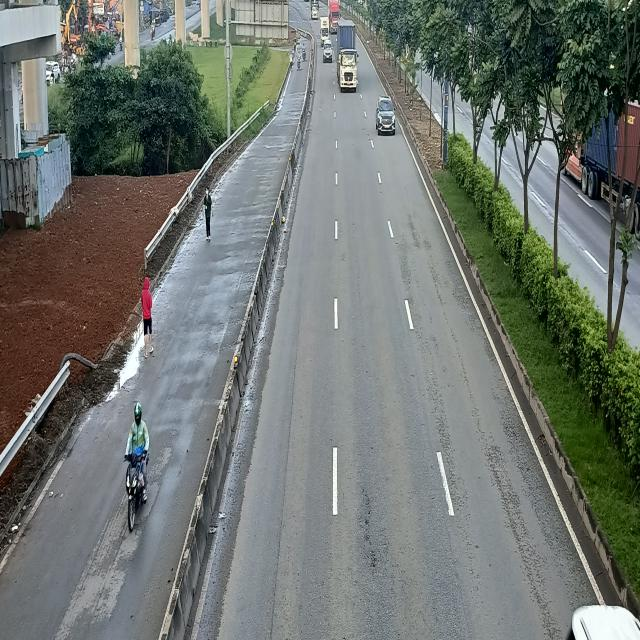car: (377, 96, 398, 134)
container: (338, 22, 360, 93), (328, 0, 340, 37)
